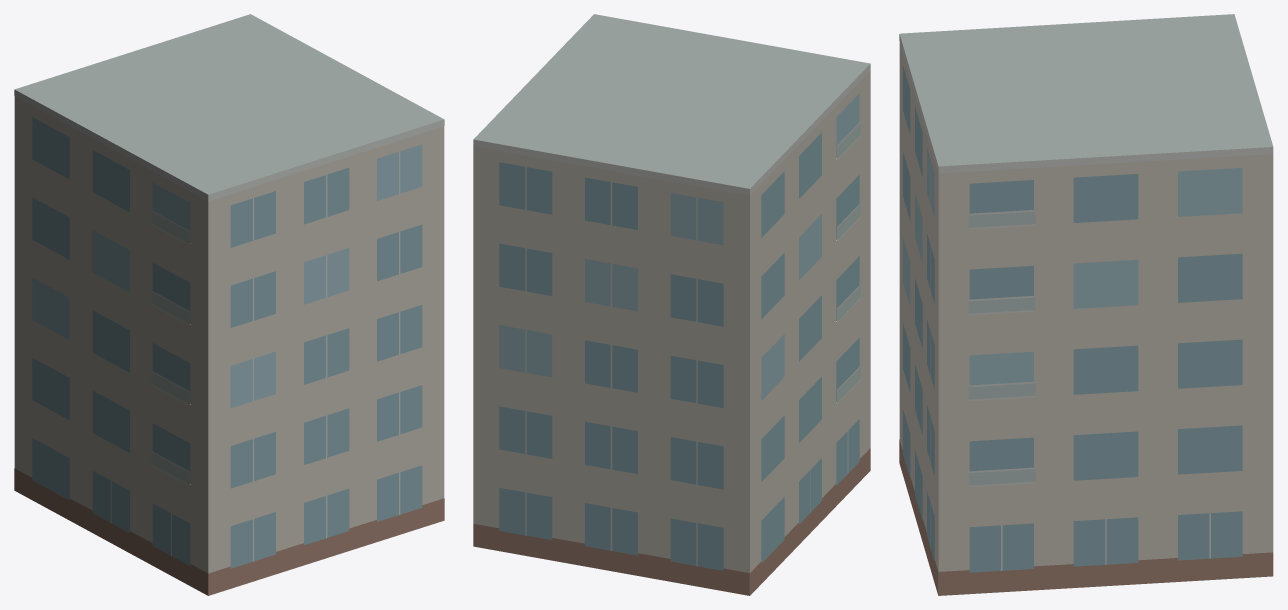
Rendered from survey-upis-32576526.glb.
3 views of the same model, side by side, from view 1: azimuth 30°, elevation 25°; view 2: azimuth 150°, elevation 25°; view 3: azimuth 270°, elevation 25° (orthographic). The views are drawn at different scales.
Visible parts, largest first — view 1: survey-upis-32576526.tmp; view 2: survey-upis-32576526.tmp; view 3: survey-upis-32576526.tmp.
Part boxes in pixels (bbox=[...]): survey-upis-32576526.tmp: bbox=[14, 14, 444, 595]; survey-upis-32576526.tmp: bbox=[473, 14, 870, 595]; survey-upis-32576526.tmp: bbox=[899, 14, 1273, 595].
Bounding box in the file's own units: 11.2 × 14.7 × 11.61.
